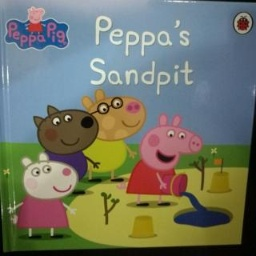Peppa: (115, 112, 203, 210)
